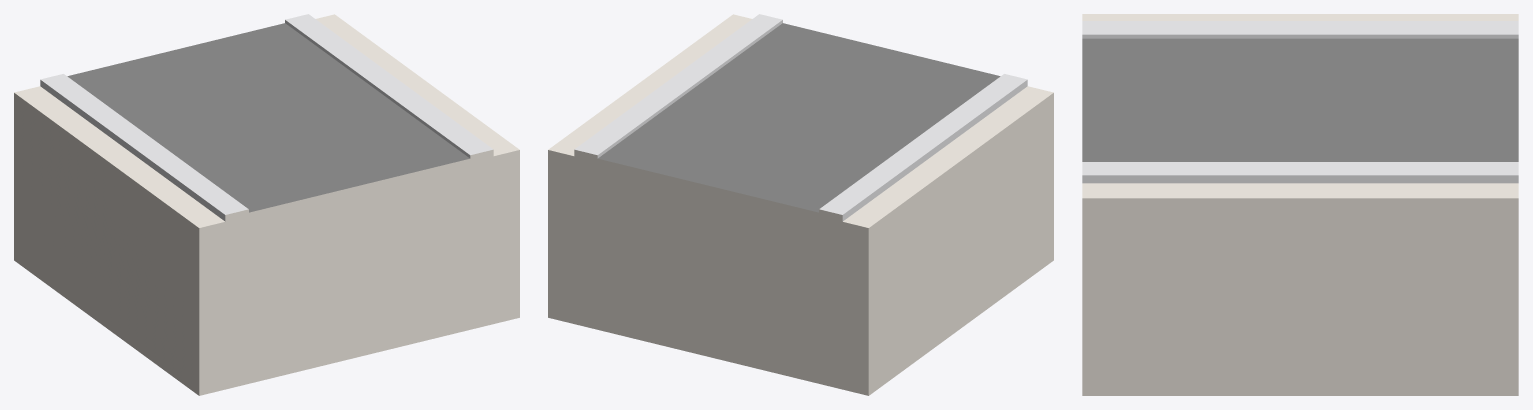
File: roadStraightBridge.glb
3 renders of one model, left to right at view 1: azimuth 30°, elevation 25°; view 2: azimuth 150°, elevation 25°; view 3: azimuth 270°, elevation 25°, orthographic. The views are drawn at different scales.
Parts seen in each view (by area): view 1: roadStraightBridge(Clone); view 2: roadStraightBridge(Clone); view 3: roadStraightBridge(Clone).
Boxes of the visible parts, x1,y1,x2,y2 form: roadStraightBridge(Clone): (14, 14, 519, 395); roadStraightBridge(Clone): (548, 14, 1053, 395); roadStraightBridge(Clone): (1082, 14, 1518, 395).
Bounding box in the file's own units: 1 × 0.52 × 1.
1 material, 1 textured.
